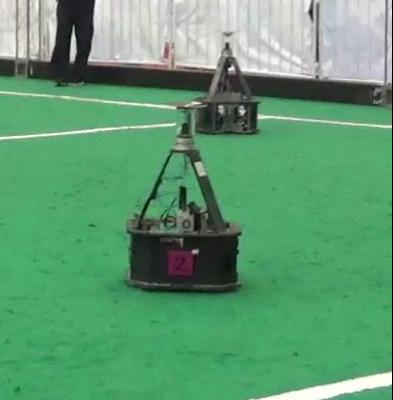robot: (123, 99, 240, 295), (192, 29, 264, 137)
